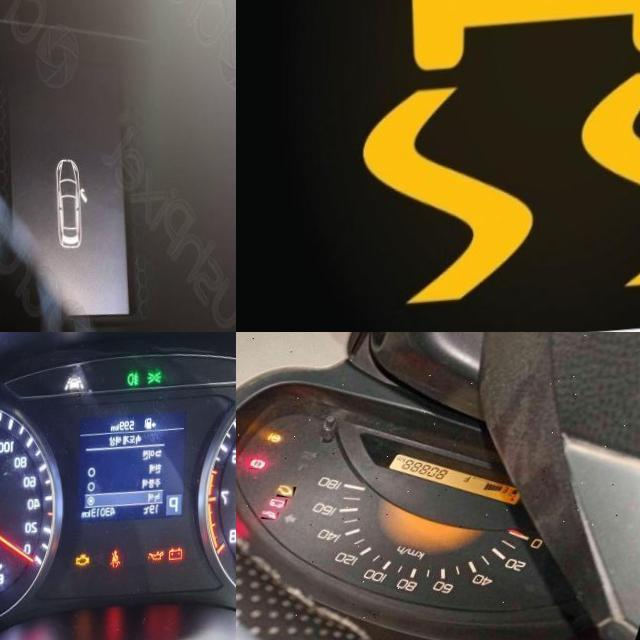FrontFogLight: (128, 377, 140, 393)
LaneCenteringOff: (66, 380, 86, 397)
SideLamp: (148, 377, 163, 392)
